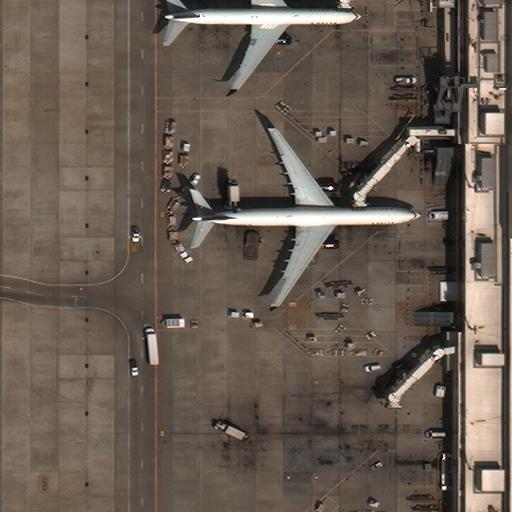Large Civil Transport: (184, 125, 424, 306), (160, 0, 364, 90)
